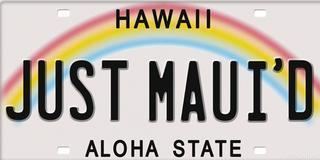placa de veiculo: (5, 0, 312, 155)
